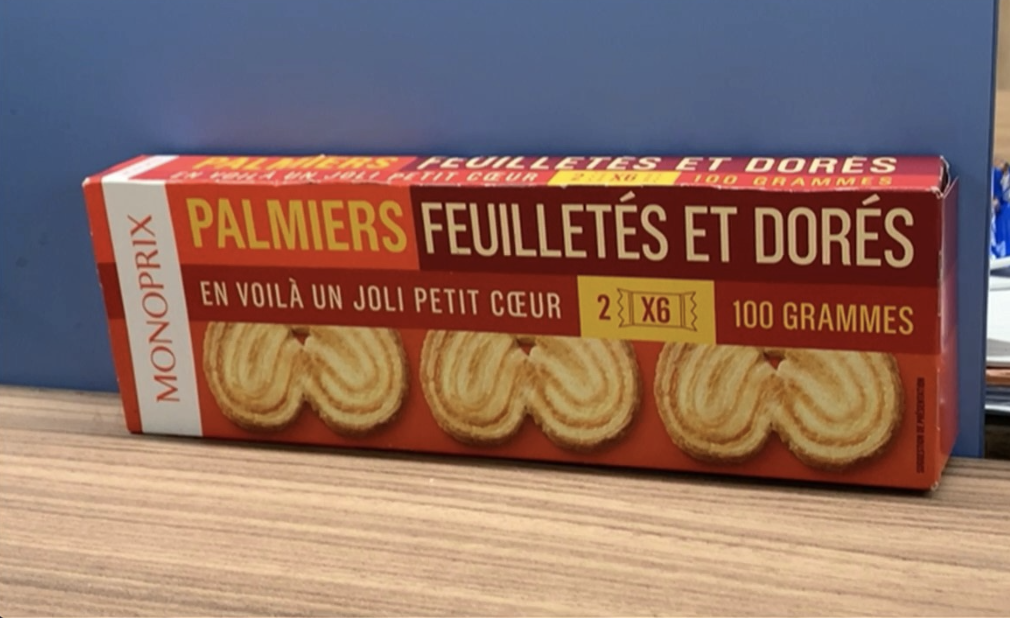cookies_150g: (129, 202, 900, 441)
